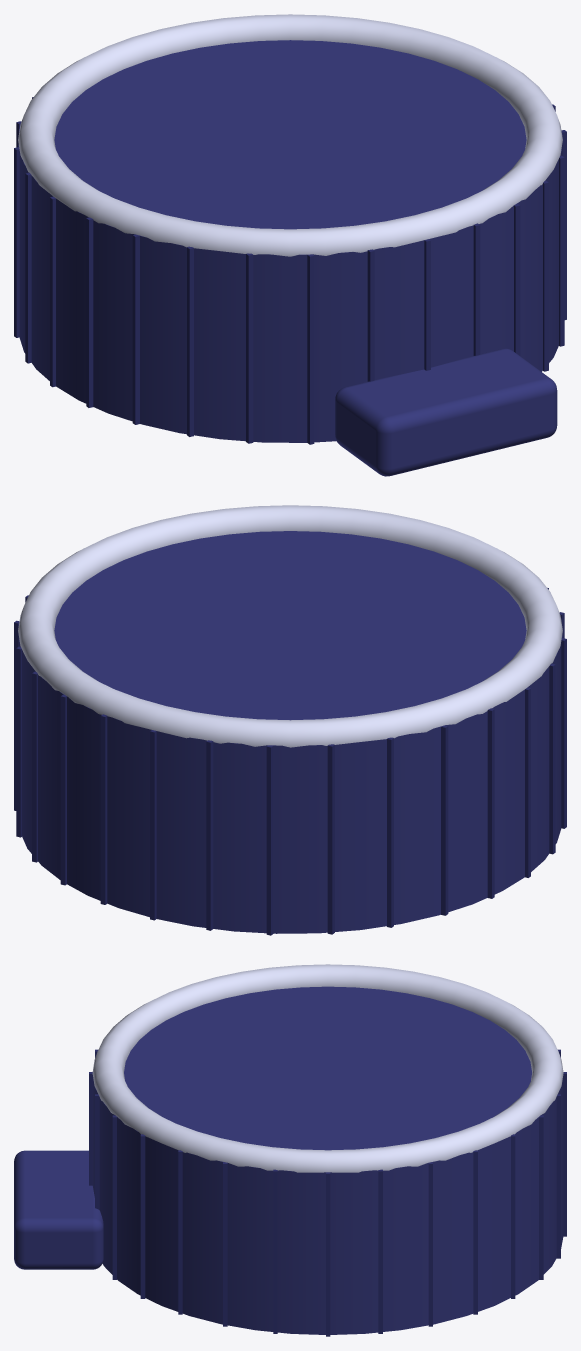
The model's file is hotTub.glb.
3 renders of one model, top to bottom at view 1: azimuth 30°, elevation 25°; view 2: azimuth 150°, elevation 25°; view 3: azimuth 270°, elevation 25°, orthographic. The views are drawn at different scales.
Visible parts, largest first — view 1: shell, rim, step, hotTub; view 2: shell, rim, hotTub; view 3: shell, rim, hotTub, step.
Boxes of the visible parts, x1,y1,x2,y2 form: shell: (18,40,562,442); rim: (18,14,562,256); step: (335,348,557,476); hotTub: (14,97,566,444); shell: (18,531,562,933); rim: (18,505,562,747); hotTub: (14,588,566,935); shell: (92,986,563,1334); rim: (92,964,563,1172); hotTub: (89,1049,566,1336); step: (14,1150,103,1269).
Size of the model in its own units: 2.13 by 0.8666 by 2.47.
